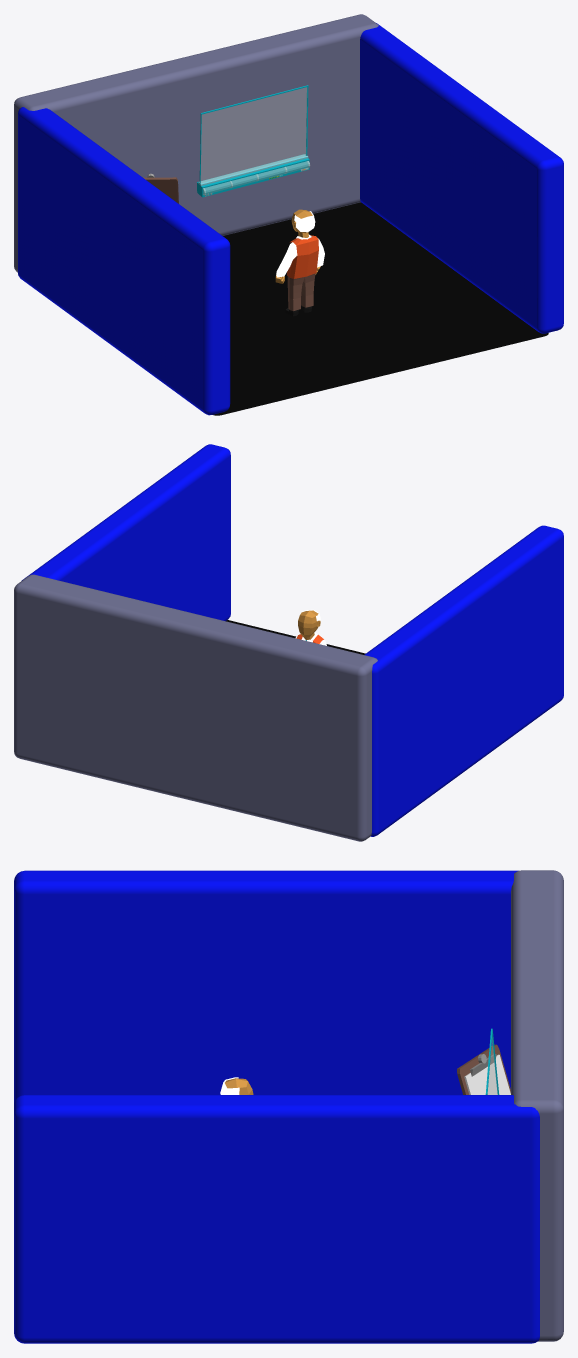
The model's file is basicClassroom.glb.
3 views of the same model, one above another, from view 1: azimuth 30°, elevation 25°; view 2: azimuth 150°, elevation 25°; view 3: azimuth 270°, elevation 25° (orthographic). The views are drawn at different scales.
Parts seen in each view (by area): view 1: Box 2, Box 1, Box, SquarePlane, Buffer Layer (×7); view 2: Box 2, Box 1, Box, Buffer Layer; view 3: Box, Box 1, Box 2, Buffer Layer.
Part boxes in pixels (x1,y1,x2,y2): Box 2: (14, 14, 378, 272); Box 1: (18, 107, 230, 415); Box: (360, 23, 563, 333); SquarePlane: (212, 202, 548, 415); Buffer Layer (×7): (143, 85, 324, 311); Box 2: (14, 574, 377, 841); Box 1: (364, 525, 563, 836); Box: (21, 444, 230, 621); Buffer Layer: (298, 610, 320, 639); Box: (14, 1095, 539, 1343); Box 1: (14, 870, 518, 1104); Box 2: (511, 870, 563, 1341); Buffer Layer: (464, 1054, 510, 1094).
Bounding box in the file's own units: 0.2151 × 0.1005 × 0.2068.
